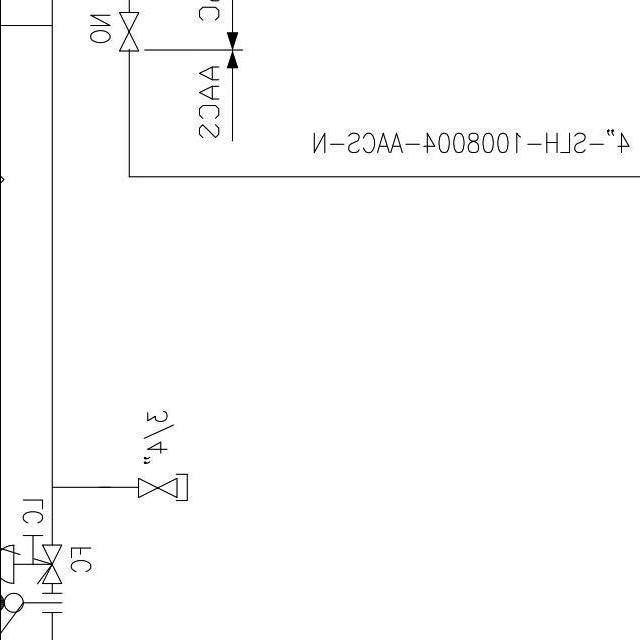EC: (110, 466, 190, 508)
FC: (0, 540, 64, 585)
GV: (131, 474, 181, 502), (112, 8, 140, 55)
